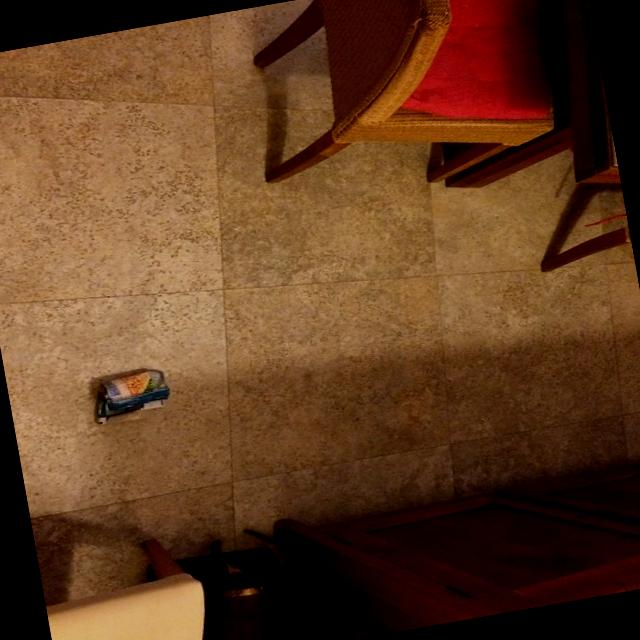Trash: (96, 364, 176, 426)
